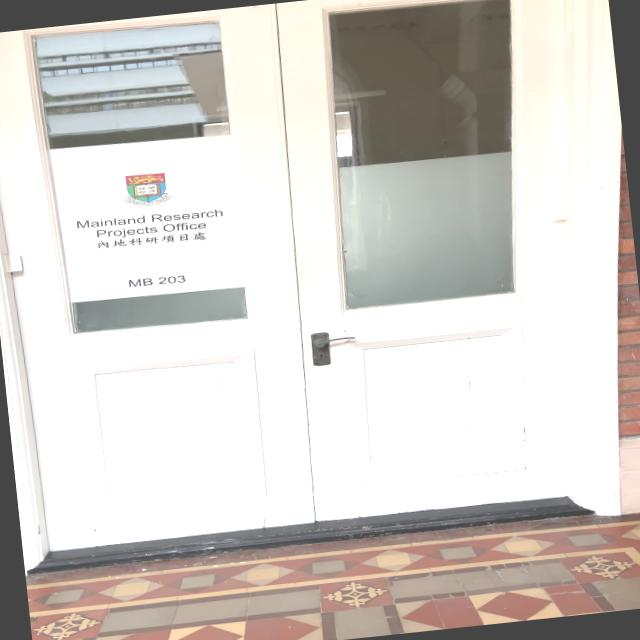room203Window: (117, 267, 191, 293)
